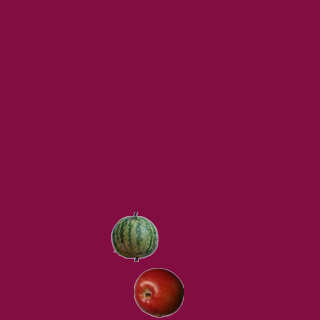Apple Braeburn: (133, 267, 183, 317)
Watermelon: (109, 211, 159, 261)
